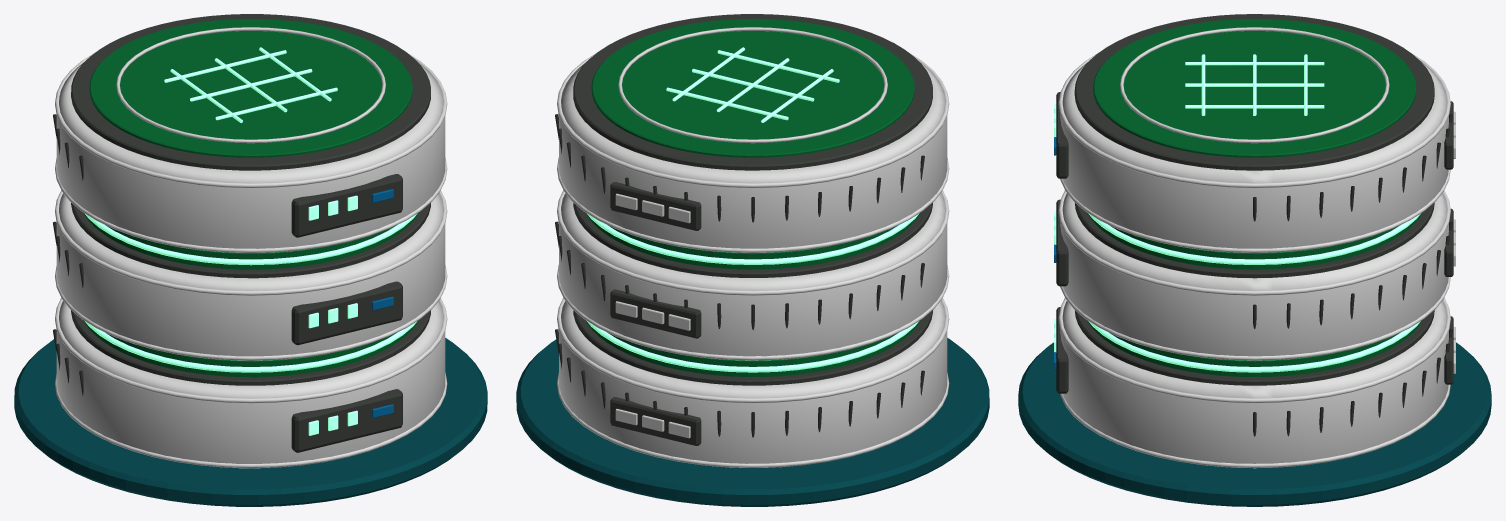
Rendered from dataset.glb.
3 views of the same model, side by side, from view 1: azimuth 30°, elevation 25°; view 2: azimuth 150°, elevation 25°; view 3: azimuth 270°, elevation 25° (orthographic).
Visible parts, largest first — view 1: body, pedestal; view 2: body, pedestal; view 3: body, pedestal.
Part boxes in pixels (bbox=[...]): body: bbox=[53, 14, 447, 468]; pedestal: bbox=[14, 338, 487, 506]; body: bbox=[555, 14, 949, 467]; pedestal: bbox=[516, 338, 989, 506]; body: bbox=[1054, 14, 1455, 468]; pedestal: bbox=[1018, 342, 1491, 506].
Bounding box in the file's own units: 4.4 × 3.34 × 4.4.
